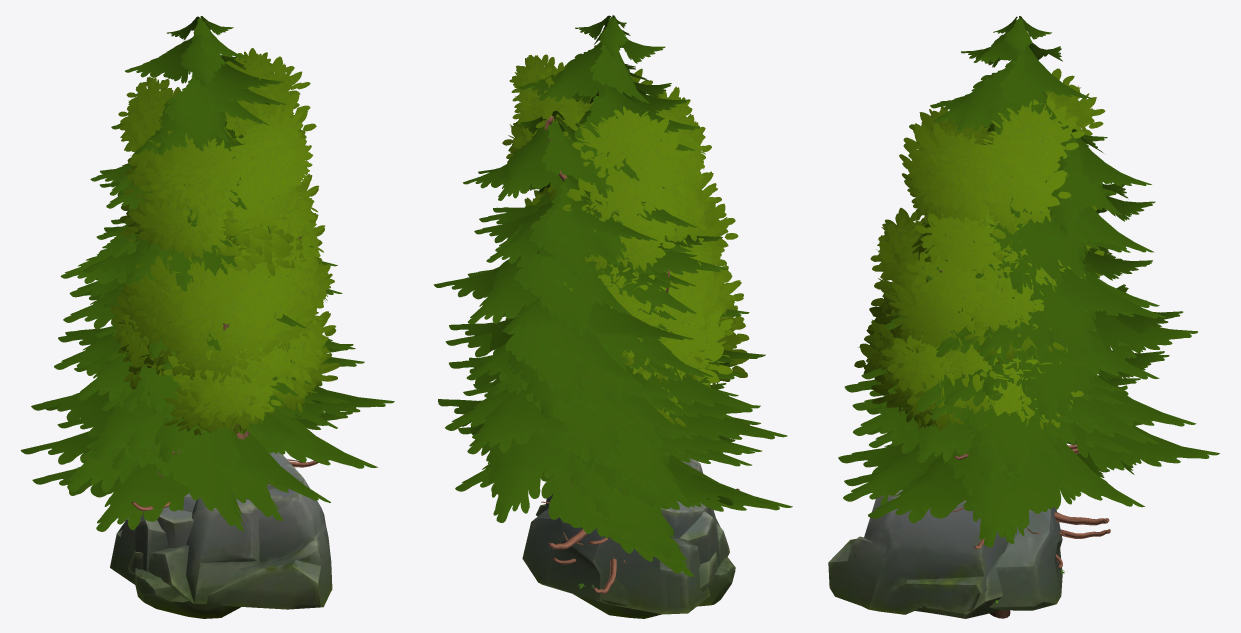
File: nature.glb
3 views of the same model, side by side, from view 1: azimuth 30°, elevation 25°; view 2: azimuth 150°, elevation 25°; view 3: azimuth 270°, elevation 25° (orthographic). The views are drawn at different scales.
Parts seen in each view (by area): view 1: CommonTree_3, Pine_4, Pine_5, CommonTree_4, Rock_Medium_3, CommonTree_1, Pine_2, CommonTree_2, Rock_Medium_1, Pine_1, Rock_Medium_2, CommonTree_5 (+1 smaller); view 2: Pine_5, Pine_4, CommonTree_3, Rock_Medium_2, CommonTree_4, Pine_2, CommonTree_1, CommonTree_2, Pine_1, Rock_Medium_3, Rock_Medium_1, CommonTree_5 (+1 smaller); view 3: Pine_5, Pine_4, CommonTree_4, Rock_Medium_3, CommonTree_3, Pine_2, CommonTree_2, CommonTree_1, Rock_Medium_2, Pine_1, CommonTree_5, Rock_Medium_1 (+1 smaller).
Boxes of the visible parts, x1,y1,x2,y2 form: CommonTree_3: [118, 55, 334, 389]; Pine_4: [31, 16, 355, 511]; Pine_5: [20, 163, 394, 521]; CommonTree_4: [125, 48, 319, 238]; Rock_Medium_3: [135, 452, 332, 618]; CommonTree_1: [115, 222, 339, 435]; Pine_2: [32, 238, 352, 531]; CommonTree_2: [110, 203, 336, 439]; Rock_Medium_1: [127, 497, 260, 603]; Pine_1: [57, 235, 330, 483]; Rock_Medium_2: [110, 506, 193, 584]; CommonTree_5: [120, 231, 316, 430]; Pine_5: [433, 110, 770, 559]; Pine_4: [445, 15, 787, 593]; CommonTree_3: [530, 62, 738, 380]; Rock_Medium_2: [522, 500, 710, 614]; CommonTree_4: [502, 54, 711, 292]; Pine_2: [455, 249, 792, 577]; CommonTree_1: [542, 193, 748, 426]; CommonTree_2: [505, 194, 749, 384]; Pine_1: [472, 239, 762, 549]; Rock_Medium_3: [536, 493, 735, 606]; Rock_Medium_1: [547, 458, 729, 618]; CommonTree_5: [564, 266, 733, 430]; Pine_5: [844, 125, 1219, 547]; Pine_4: [844, 16, 1169, 549]; CommonTree_4: [899, 68, 1105, 618]; Rock_Medium_3: [828, 490, 1008, 614]; CommonTree_3: [868, 94, 1103, 618]; Pine_2: [838, 272, 1144, 543]; CommonTree_2: [854, 199, 1092, 617]; CommonTree_1: [863, 221, 1103, 615]; Rock_Medium_2: [989, 507, 1062, 610]; Pine_1: [866, 264, 1140, 525]; CommonTree_5: [905, 245, 1104, 413]; Rock_Medium_1: [915, 526, 1019, 618].
Bounding box in the file's own units: 6.42 × 10.32 × 6.36.
Materials: 7 (7 with a texture image).
